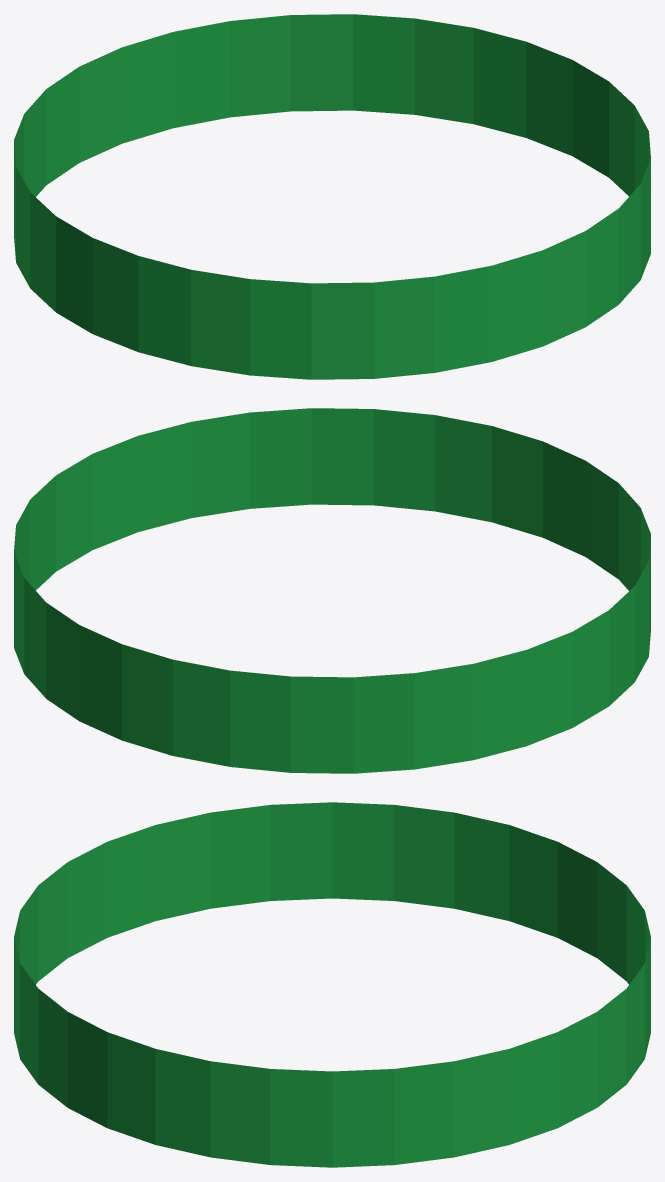
Rendered from AuraRingBlue.obj.
3 renders of one model, top to bottom at view 1: azimuth 30°, elevation 25°; view 2: azimuth 150°, elevation 25°; view 3: azimuth 270°, elevation 25°, orthographic.
Visible parts, largest first — view 1: Circle; view 2: Circle; view 3: Circle.
Boxes of the visible parts, x1,y1,x2,y2 form: Circle: (14, 14, 650, 379); Circle: (14, 408, 650, 773); Circle: (14, 802, 650, 1167).
Size of the model in its own units: 3 by 0.5 by 3.
1 material, 1 textured.
